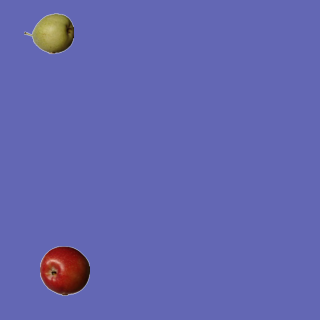Apple Braeburn: (39, 245, 89, 295)
Pear: (23, 8, 73, 58)
